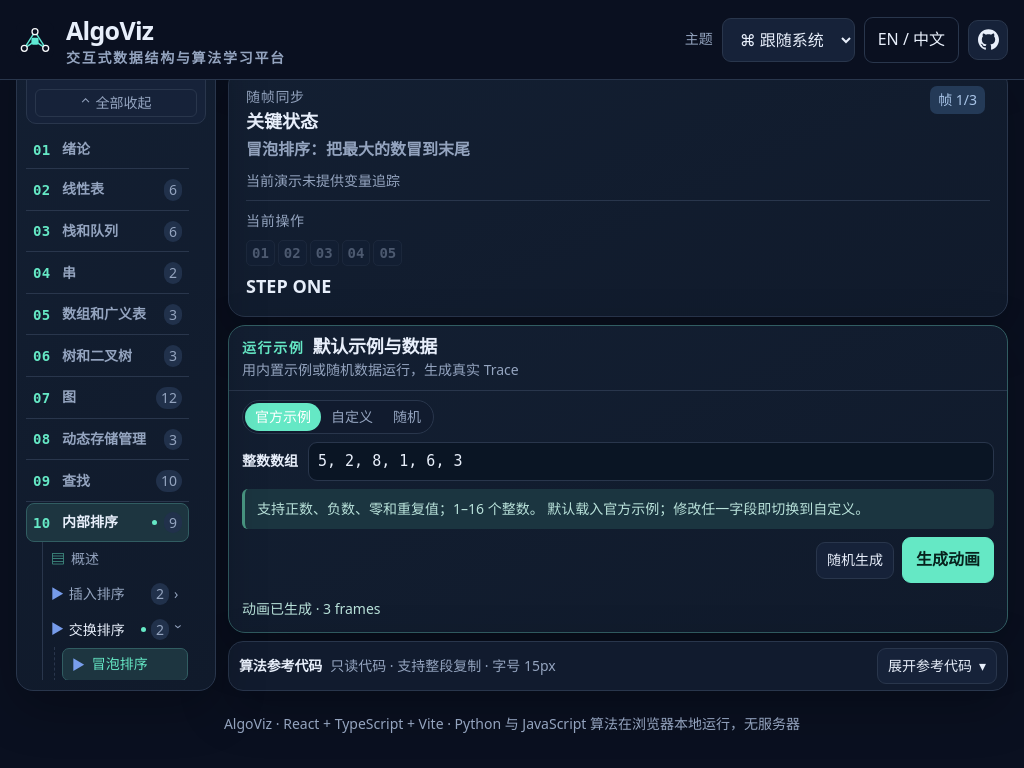
Test: Stage 2 — source consistency, diagnostics and drafts › shows a structured Python diagnostic after a failed run
(page scrolled)
What coordinates should you click on to do the following:
click the button with test id "run-btn"
I would click on:
 (948, 560)
Its box is [902,537,994,583].
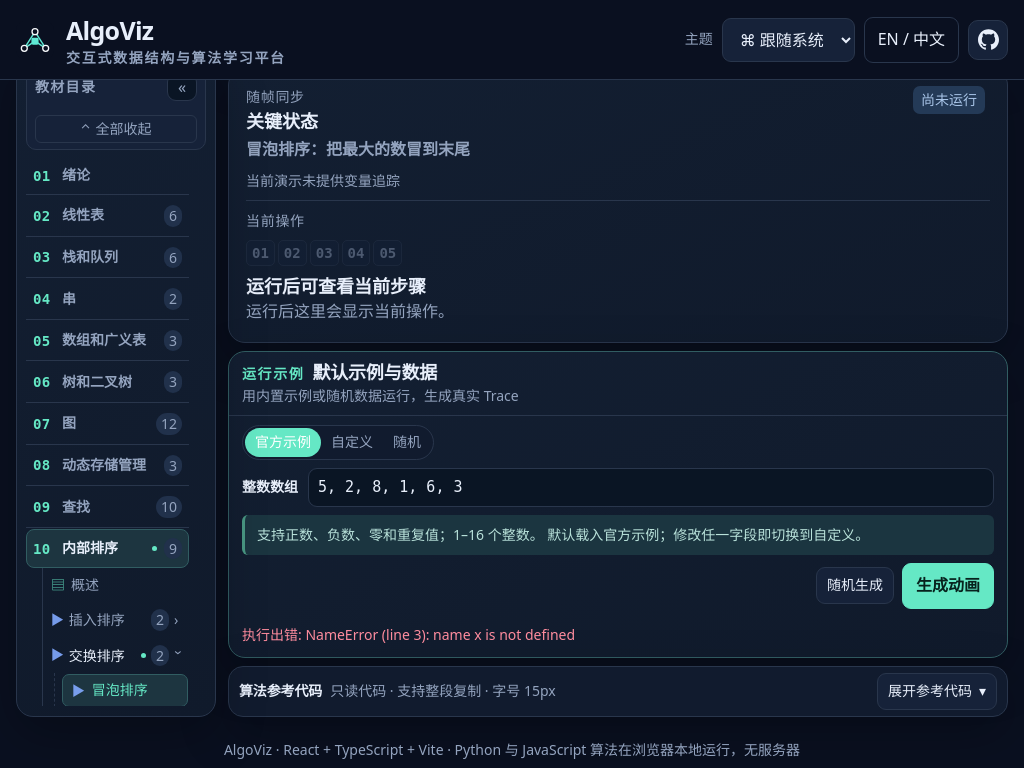
Now the text with test id "run-feedback" shows "NameError", box [242,625,575,644]
